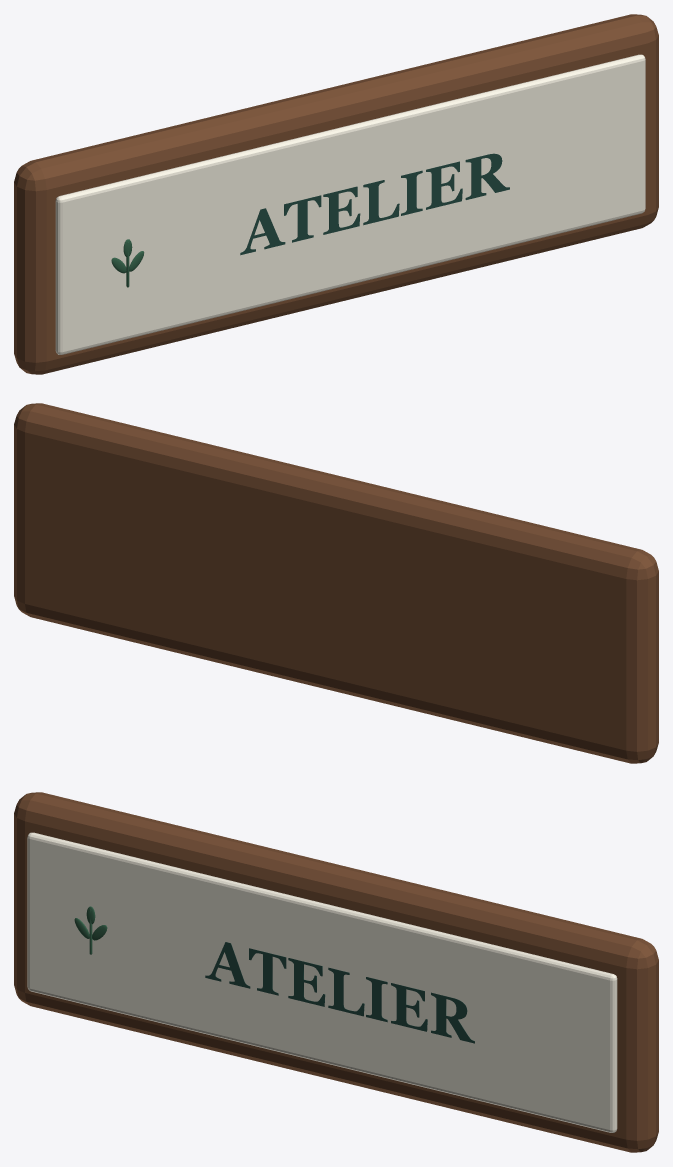
File: sign_workshop.glb
The picture shows the model from 3 angles, top to bottom: view 1: azimuth 30°, elevation 25°; view 2: azimuth 150°, elevation 25°; view 3: azimuth 330°, elevation 25°; orthographic projection.
Visible parts, largest first — view 1: Ivory_inset, Carved_timber, Flat_direction; view 2: Carved_timber; view 3: Ivory_inset, Carved_timber, Flat_direction.
Boxes of the visible parts, left/top/right/bottom form: Ivory_inset: left=55, top=54, right=645, bottom=354; Carved_timber: left=14, top=14, right=658, bottom=374; Flat_direction: left=240, top=153, right=509, bottom=255; Carved_timber: left=14, top=403, right=658, bottom=763; Ivory_inset: left=27, top=832, right=617, bottom=1132; Carved_timber: left=14, top=792, right=658, bottom=1152; Flat_direction: left=205, top=942, right=474, bottom=1043.
Bounding box in the file's own units: 0.76 × 0.24 × 0.062.
